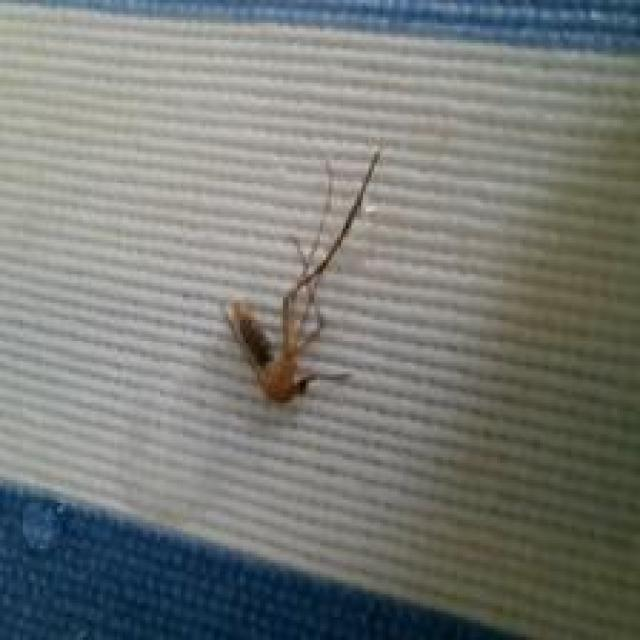Culex: (223, 147, 383, 407)
